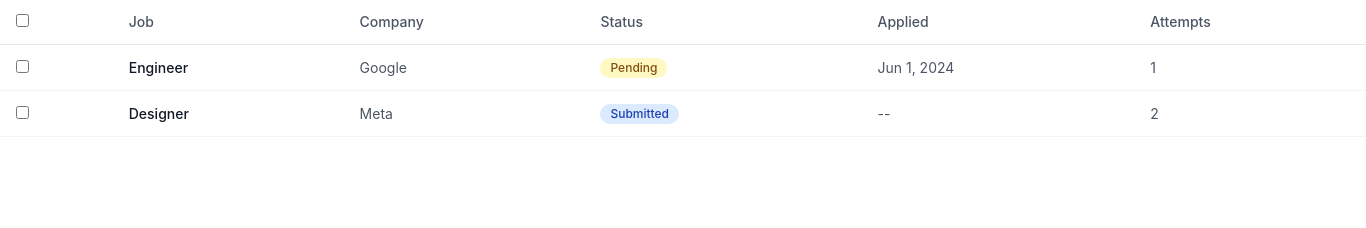
Test: ApplicationTable › select all selects all rows
The image size is (1366, 228).
Click the checkbox named "Select all applications": (22, 20) [16, 14, 29, 27]
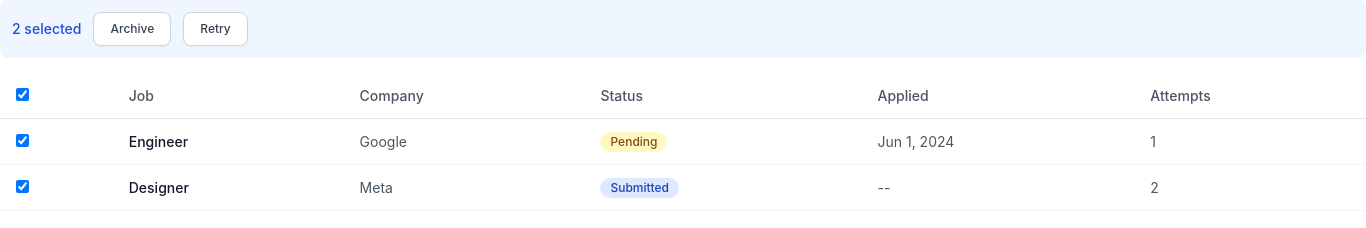
Result: the text "2 selected" is shown at [12, 19, 82, 39]
